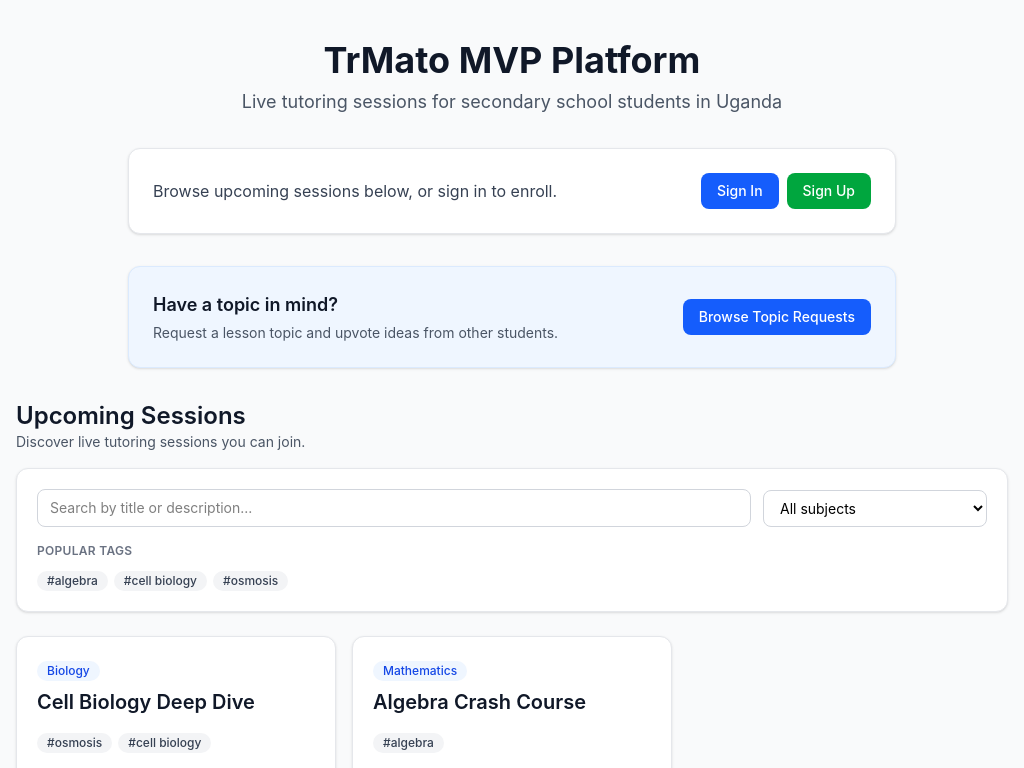
Scenario: Phase 13 — Integration flows › Search and filter combinations › clears all filters when Clear All is clicked
Select "Biology" in the dropdown named "filter by subject". click: [875, 508]
box: [763,490,987,526]
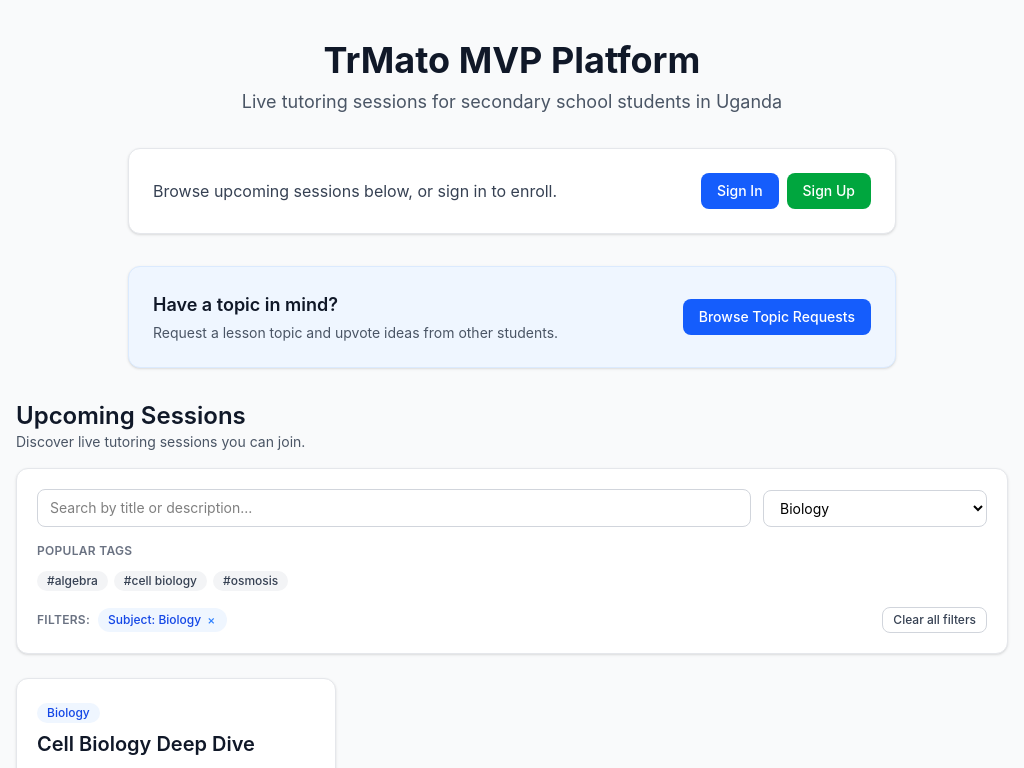
Expected: the text "Subject: Biology ×" is shown, [98,608,227,632]
Click the button "Clear all filters". click: [935, 620]
box: [882,607,987,633]
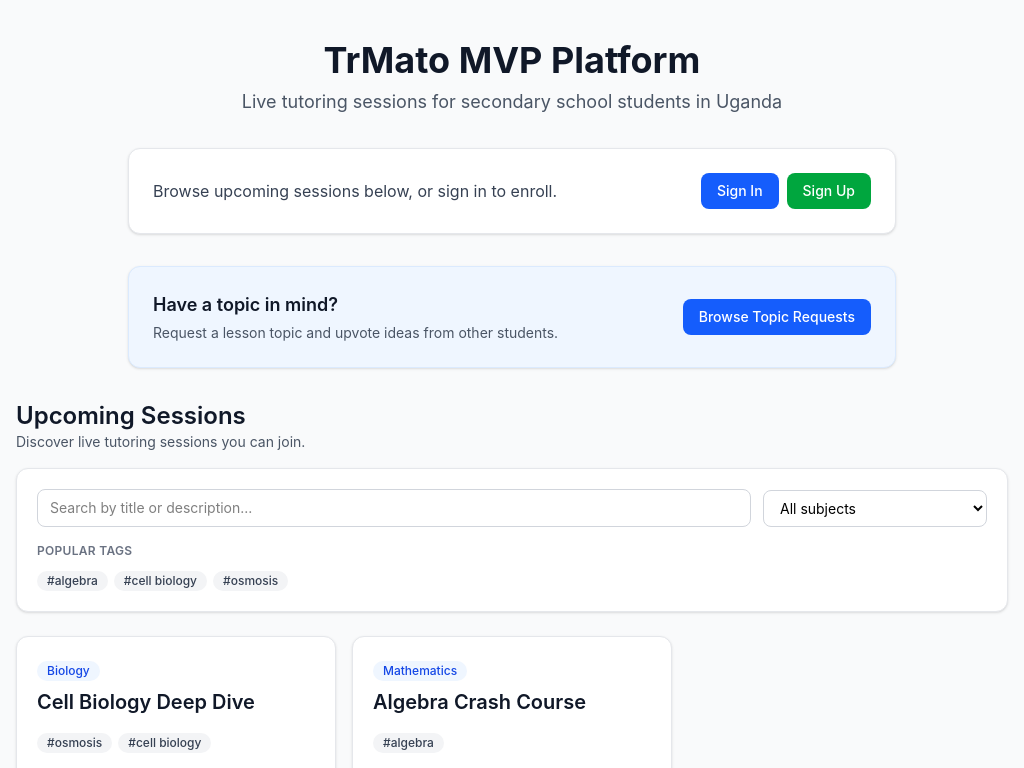
Expected: the heading "Cell Biology Deep Dive" is shown, [37,690,255,714]
Expected: the text "Subject: Biology" is gone
Expected: the heading "Algebra Crash Course" is shown, [373,690,586,714]
